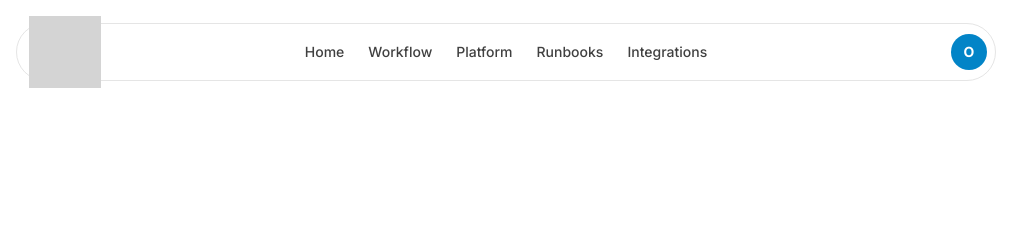
Navbar › collapses a signed-in operator's controls into an account menu
Expected: the menu item "Open console" is not shown
Click the button "O": (969, 52) x1=951 y1=34 x2=987 y2=70
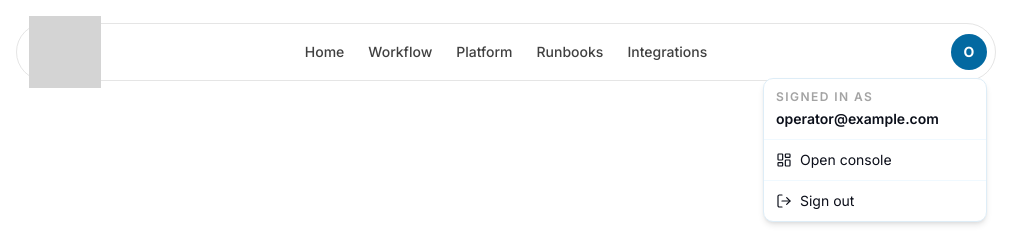
Expected: the text "operator@example.com" is shown, x1=776 y1=110 x2=939 y2=127
Expected: the menu item "Sign out" is shown, x1=776 y1=192 x2=854 y2=209
